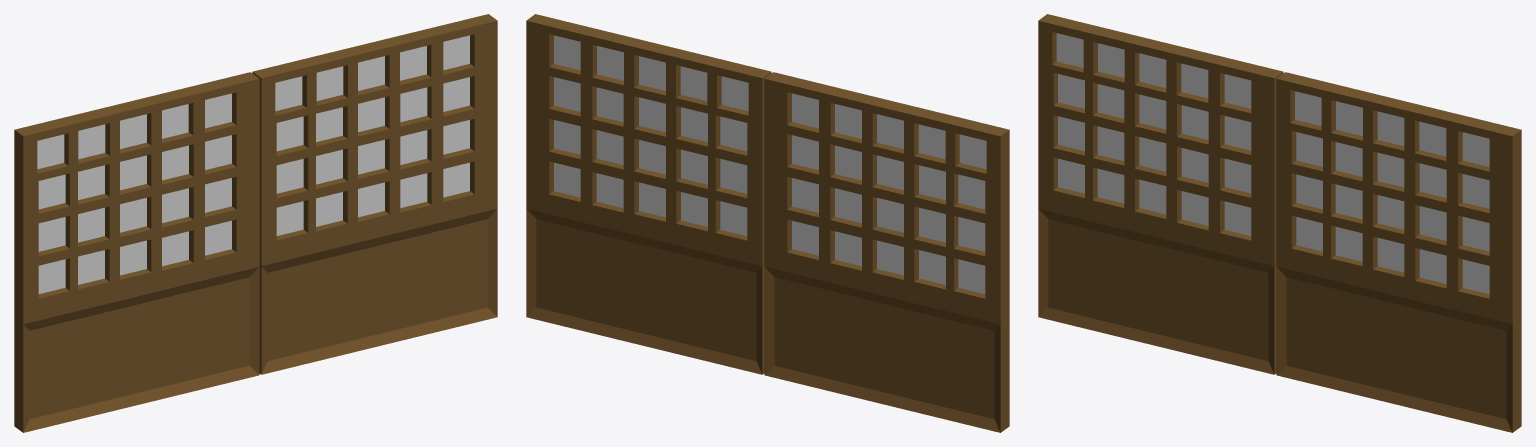
File: Door.fbx
The picture shows the model from 3 angles, left to right: view 1: azimuth 30°, elevation 25°; view 2: azimuth 150°, elevation 25°; view 3: azimuth 330°, elevation 25°; orthographic projection.
Parts seen in each view (by area): view 1: door, door.001; view 2: door, door.001; view 3: door.001, door.
Boxes of the visible parts, x1,y1,x2,y2 form: door: (14, 72, 259, 432); door.001: (252, 14, 497, 374); door: (764, 72, 1009, 432); door.001: (526, 14, 771, 374); door.001: (1276, 72, 1521, 432); door: (1038, 14, 1283, 374).
Bounding box in the file's own units: 301 × 180 × 10.
